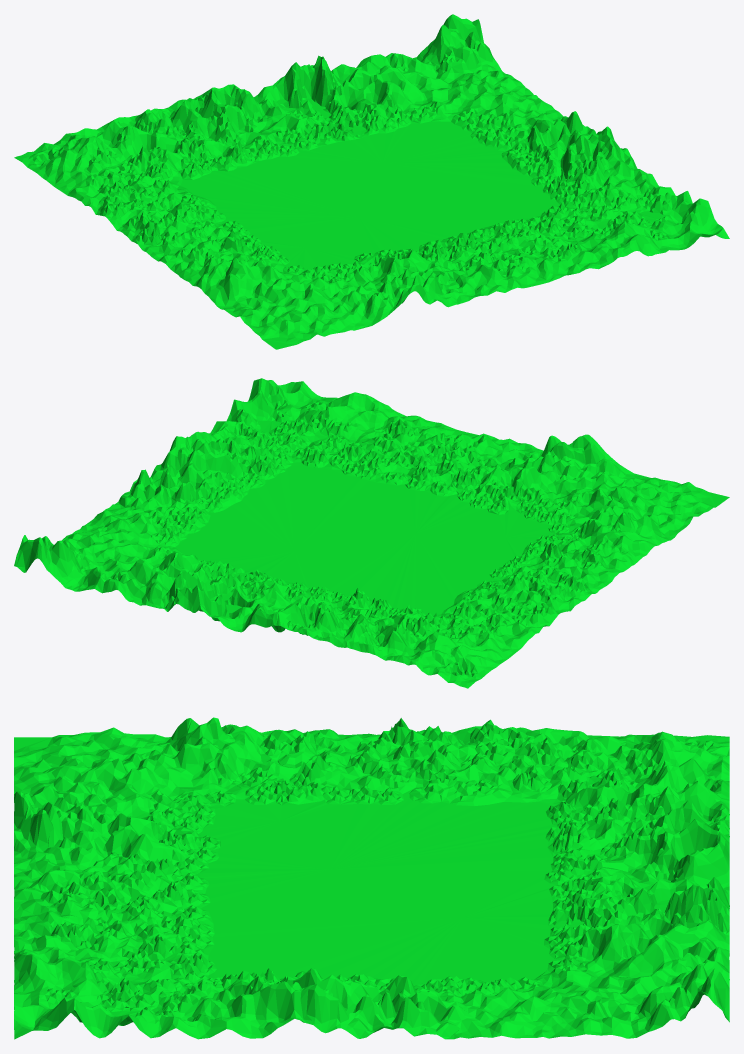
File: Terrain.fbx
3 views of the same model, one above another, from view 1: azimuth 30°, elevation 25°; view 2: azimuth 150°, elevation 25°; view 3: azimuth 270°, elevation 25° (orthographic). The views are drawn at different scales.
Visible parts, largest first — view 1: Terrain; view 2: Terrain; view 3: Terrain.
Part boxes in pixels (box(x1,y1,x2,y2)): Terrain: box(14, 14, 729, 349); Terrain: box(14, 378, 729, 688); Terrain: box(14, 717, 729, 1039).
Bounding box in the file's own units: 30013 × 2683 × 30018.
